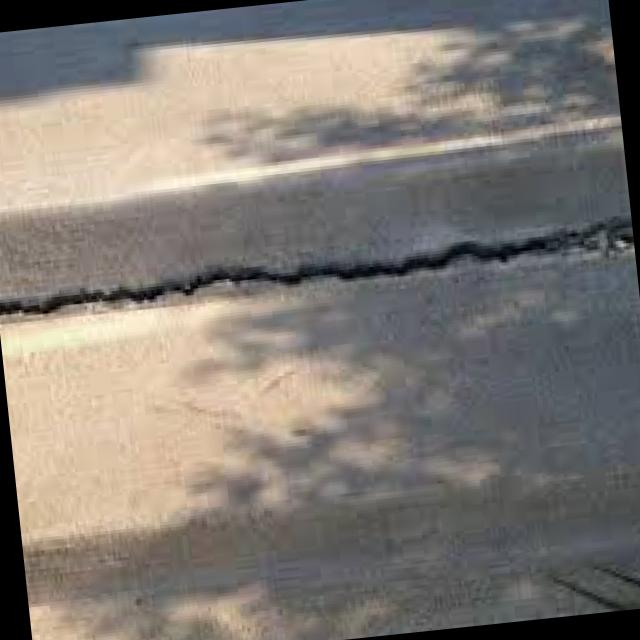crack: (0, 205, 629, 318)
